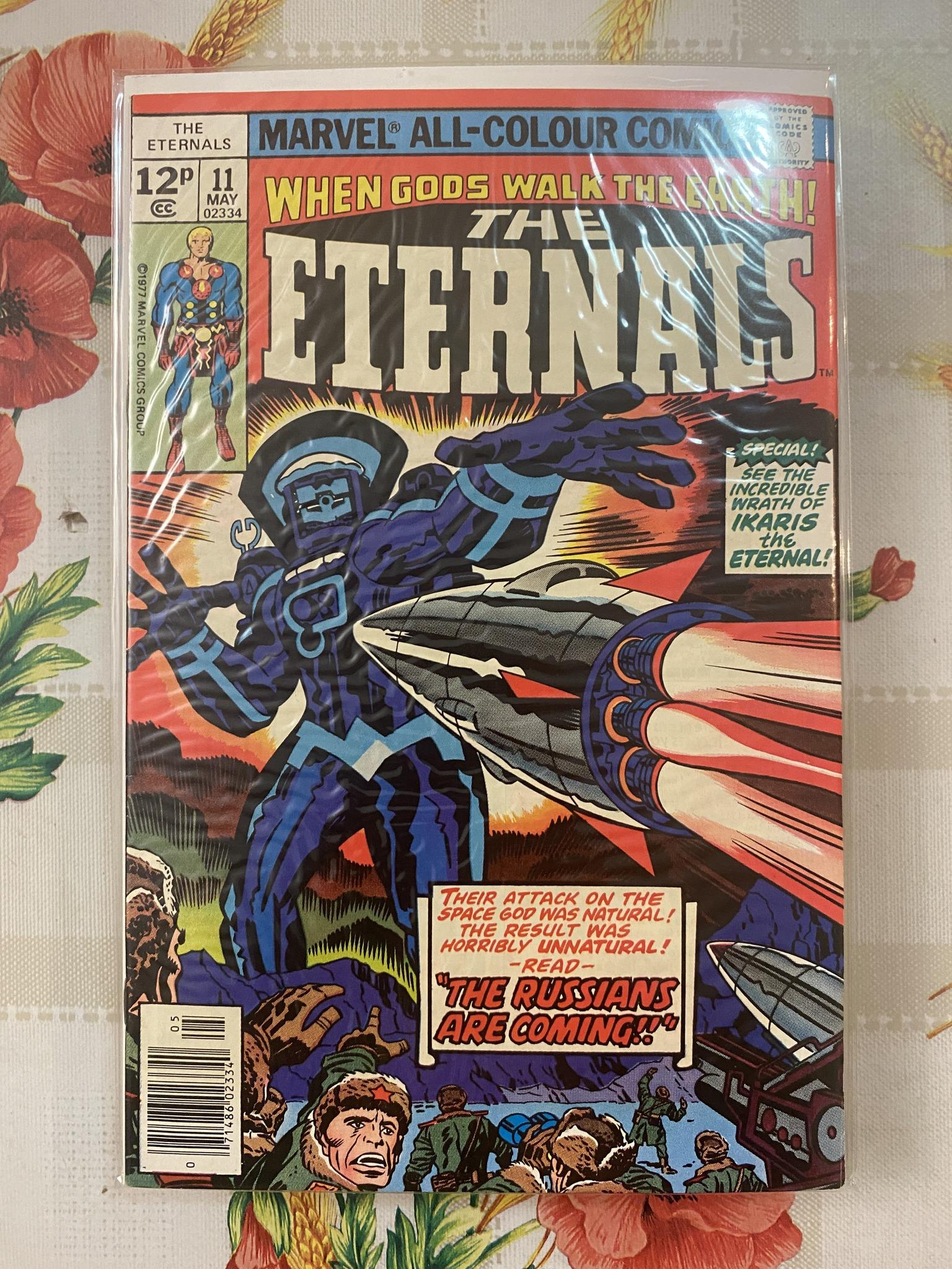comic: (116, 63, 846, 1199)
